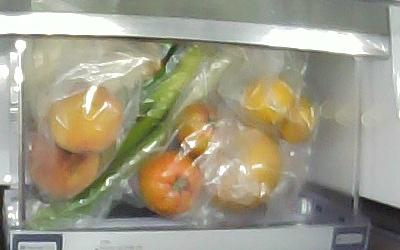peach_vinyl: (49, 83, 122, 154), (30, 135, 100, 201)
pear_vinyl: (202, 125, 283, 211)
tangerine_vinyl: (239, 76, 295, 124), (277, 97, 316, 141)
tomato_vinyl: (138, 152, 202, 215), (173, 102, 221, 155)
